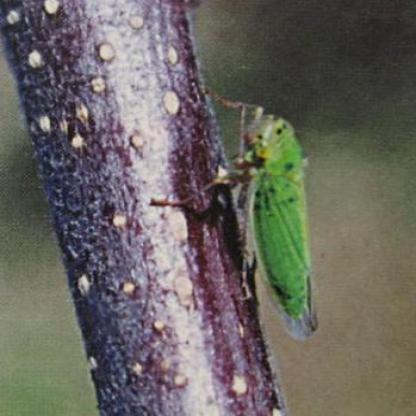Green-Leafhopper: (174, 88, 321, 341)
